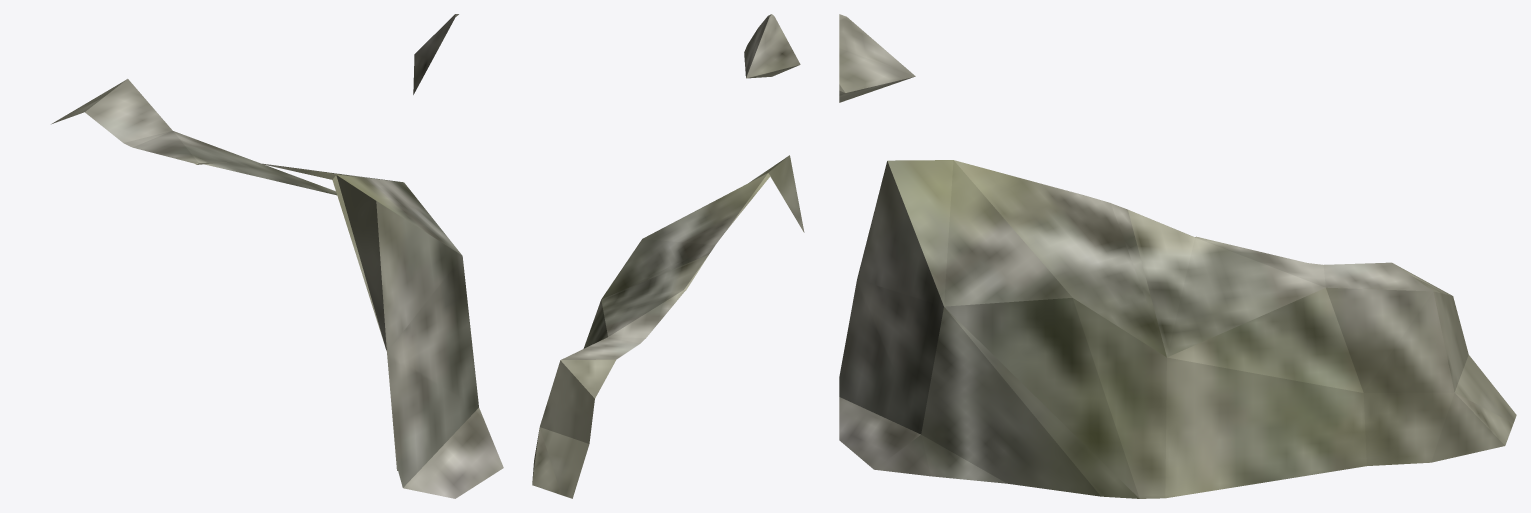
3 views of the same model, side by side, from view 1: azimuth 30°, elevation 25°; view 2: azimuth 150°, elevation 25°; view 3: azimuth 270°, elevation 25° (orthographic). The views are drawn at different scales.
Bounding box in the file's own units: 0.5014 × 1.19 × 1.71.
1 material, 1 textured.
